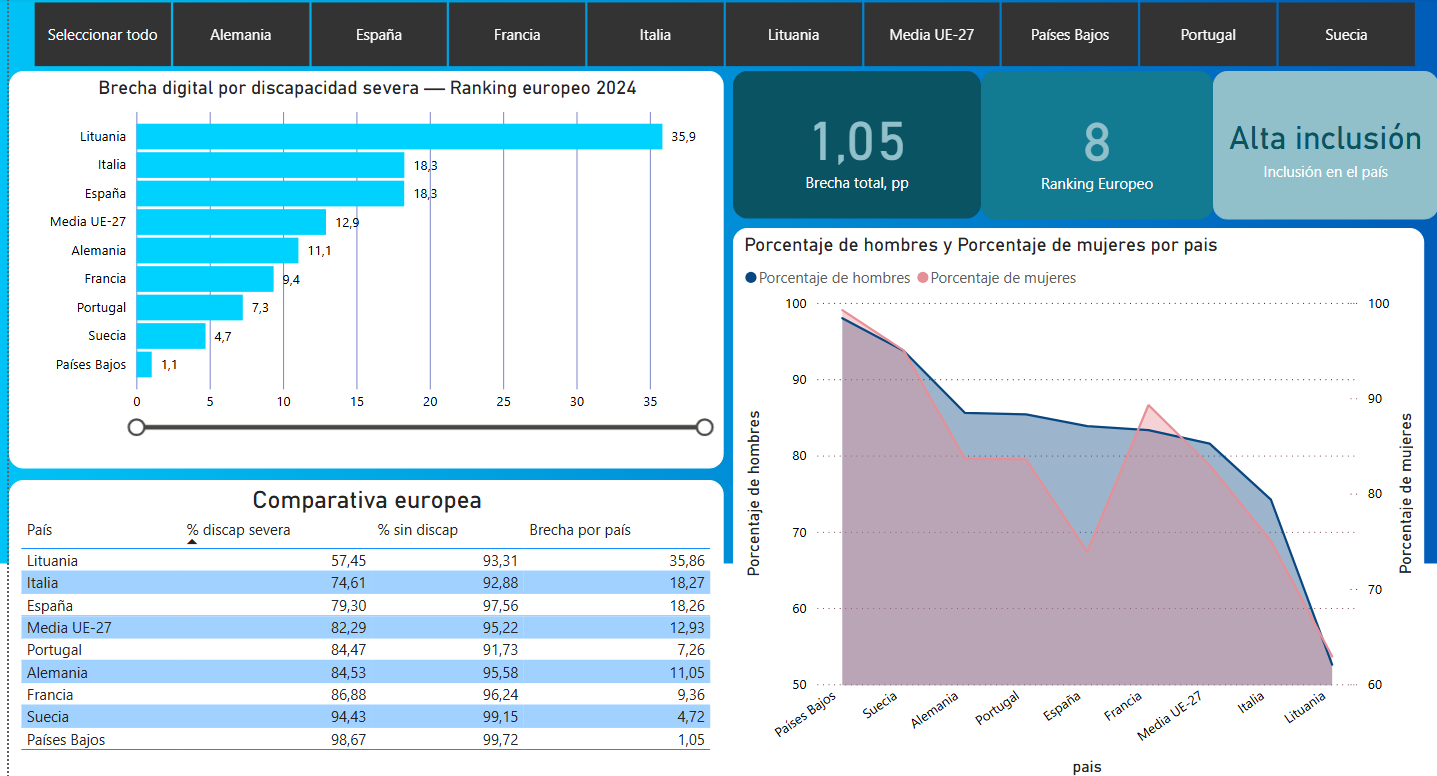

What the dashboard file says about the page in this screenshot:
{"tool":"powerbi","page":{"name":"España en Europa","canvas":[1280,720],"ordinal":0},"visuals":[{"type":"clusteredBarChart","title":"Brecha digital por discapacidad severa — Ranking europeo 2024","fields":{"Category":["vw_pbi_ranking.pais"],"Y":["Sum(vw_pbi_ranking.brecha_pp)"]},"box":[10,0,280,280],"z":0},{"type":"tableEx","title":"Comparativa europea","fields":{"Values":["vw_pbi_ranking.pais","vw_pbi_ranking.pct_discap_severa","vw_pbi_ranking.pct_sin_discapacidad","vw_pbi_ranking.brecha_pp"]},"box":[10,412.9,510,307.1],"z":1000},{"type":"cardVisual","title":"Brecha España (pp)","fields":{"Rows":["vw_pbi_kpis_espana.kpi"],"Data":["Min(vw_pbi_kpis_espana.valor_es)"]},"box":[305.7,0,695.7,428.6],"z":2000}]}

Visuals, with their boxes on the page's 1280x720 design canvas (x1, y1, x2, y2). These are canvas units, not pixel positions in the 1437x776 screenshot, which may show the page scaled, cropped or inside an application window:
"Brecha digital por discapacidad severa — Ranking europeo 2024" clusteredBarChart: locate(10, 0, 290, 280)
"Comparativa europea" tableEx: locate(10, 413, 520, 720)
"Brecha España (pp)" cardVisual: locate(306, 0, 1001, 429)
